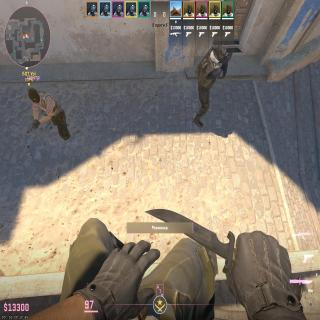CT-Body: (196, 44, 227, 115)
T-Body: (28, 88, 68, 140)
T-Head: (216, 43, 226, 60), (28, 88, 40, 102)
